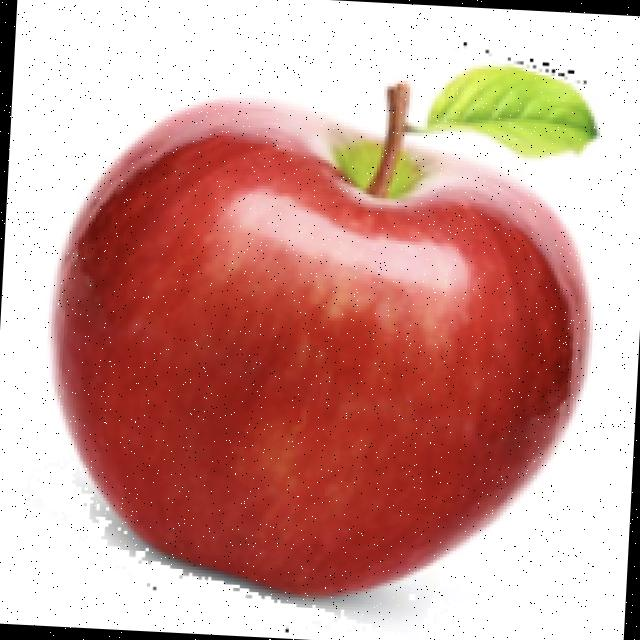apple: (46, 47, 603, 607)
